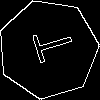T: (23, 24, 76, 67)
